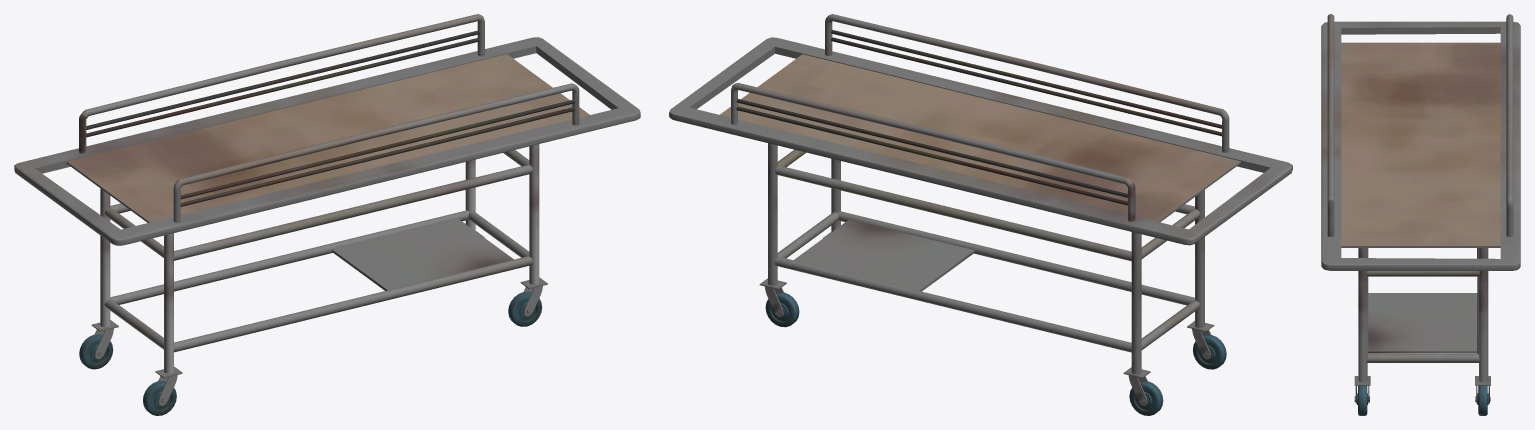
The model's file is stretcher-paramedic.glb.
The picture shows the model from 3 angles, left to right: view 1: azimuth 30°, elevation 25°; view 2: azimuth 150°, elevation 25°; view 3: azimuth 270°, elevation 25°; orthographic projection. The views are drawn at different scales.
Parts seen in each view (by area): view 1: Stretcher, shelf, pCylinder3 (×3), Topbar, BaseBar, rail, rail1, Basebar2, Railbar2, Railbar, Railbar3, Railbar4 (+5 smaller); view 2: Stretcher, shelf, pCylinder3 (×3), Basebar2, Topbar2, rail1, rail, BaseBar, Railbar4, Railbar, Railbar3, Railbar2 (+5 smaller); view 3: Stretcher, shelf, pCylinder3 (×2), rail1, rail, Basebar4, Topbar4, Wheel2, Wheel3.
Boxes of the visible parts, x1,y1,x2,y2 form: Stretcher: (14, 37, 640, 245); shelf: (332, 218, 513, 290); pCylinder3 (×3): (100, 144, 539, 373); Topbar: (173, 164, 532, 260); BaseBar: (173, 256, 532, 352); rail: (79, 14, 484, 153); rail1: (173, 83, 579, 222); Basebar2: (110, 210, 469, 304); Railbar2: (180, 107, 574, 206); Railbar: (180, 100, 574, 199); Railbar3: (86, 30, 480, 129); Railbar4: (86, 38, 479, 137); Stretcher: (669, 37, 1292, 245); shelf: (794, 219, 974, 291); pCylinder3 (×3): (768, 143, 1204, 374); Basebar2: (775, 256, 1131, 352); Topbar2: (775, 165, 1131, 261); rail1: (825, 14, 1229, 152); rail: (731, 82, 1135, 221); BaseBar: (838, 211, 1194, 305); Railbar4: (736, 106, 1127, 205); Railbar: (831, 30, 1221, 128); Railbar3: (736, 99, 1127, 197); Railbar2: (831, 37, 1221, 136); Stretcher: (1321, 21, 1520, 270); shelf: (1368, 293, 1477, 353); pCylinder3 (×2): (1358, 248, 1488, 382); rail1: (1327, 14, 1334, 236); rail: (1506, 14, 1513, 236); Basebar4: (1366, 354, 1479, 362); Topbar4: (1366, 271, 1479, 276); Wheel2: (1477, 385, 1488, 415); Wheel3: (1357, 385, 1367, 415).
Bounding box in the file's own units: 2.01 × 0.9 × 0.6925.
1 material, 1 textured.
